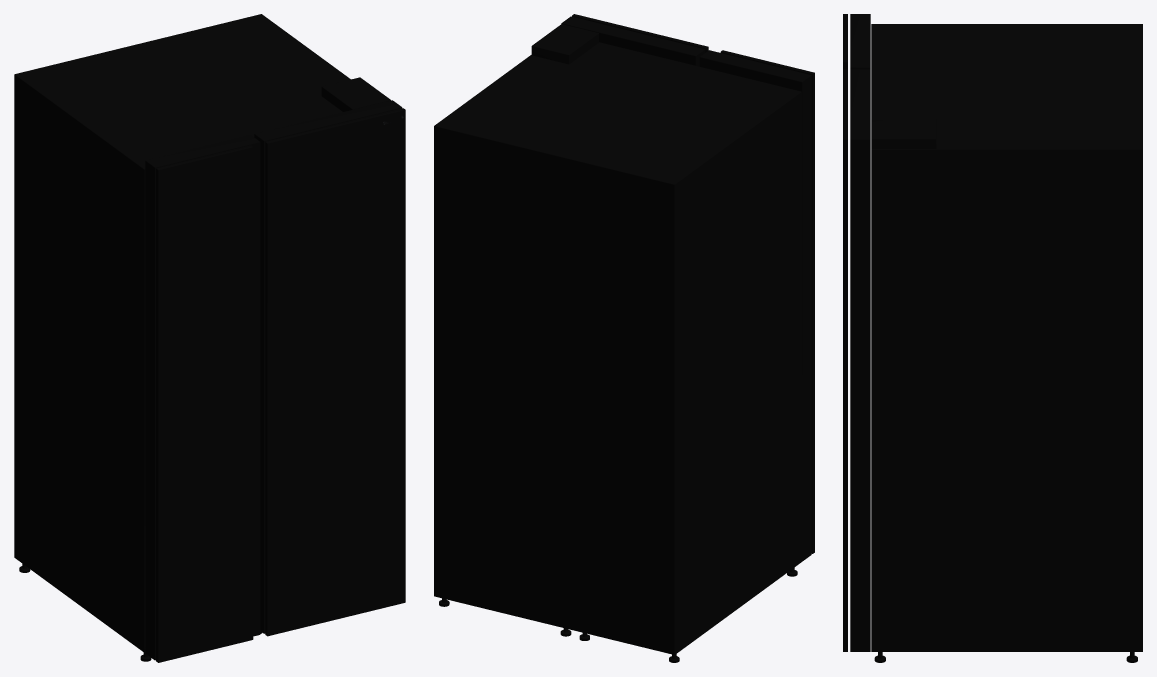
The model's file is electronic_51.001.fbx.
3 views of the same model, side by side, from view 1: azimuth 30°, elevation 25°; view 2: azimuth 150°, elevation 25°; view 3: azimuth 270°, elevation 25° (orthographic). The views are drawn at different scales.
Visible parts, largest first — view 1: electronic_51.001; view 2: electronic_51.001; view 3: electronic_51.001.
Part boxes in pixels (x1,y1,x2,y2): electronic_51.001: (14, 14, 405, 662); electronic_51.001: (434, 14, 814, 662); electronic_51.001: (843, 14, 1142, 662).
Bounding box in the file's own units: 91.2 × 177 × 92.
1 material, 1 textured.
